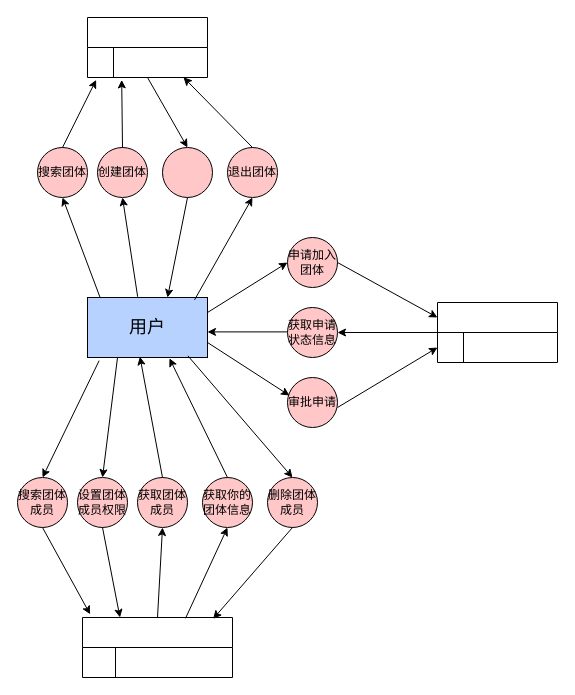
The diagram is 575 pixels wide and 695 high, and some of its shapes have lost their labels. Each missing label, with the centre of its shape:
"团队表" belongs at point 147,47.
"用户从属团队表" belongs at point 157,647.
"用户申请团队表" belongs at point 497,332.
"获取团体信息" belongs at point 187,172.
